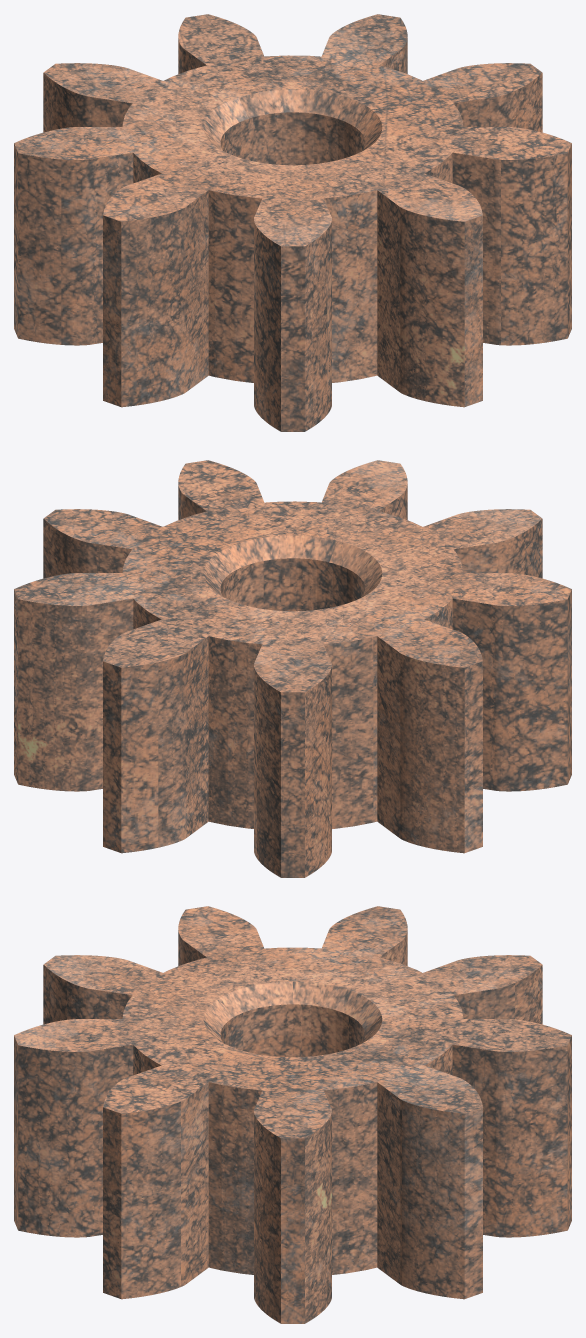
File: planet_gear_v4.glb
The picture shows the model from 3 angles, top to bottom: view 1: azimuth 30°, elevation 25°; view 2: azimuth 150°, elevation 25°; view 3: azimuth 270°, elevation 25°; orthographic projection.
Parts seen in each view (by area): view 1: OpenSCAD_Model; view 2: OpenSCAD_Model; view 3: OpenSCAD_Model.
Part boxes in pixels (box(x1,y1,x2,y2)): OpenSCAD_Model: box(14, 14, 571, 431); OpenSCAD_Model: box(14, 460, 571, 877); OpenSCAD_Model: box(14, 906, 571, 1323).
Size of the model in its own units: 32.22 by 12 by 32.71.
Materials: 1 (1 with a texture image).
